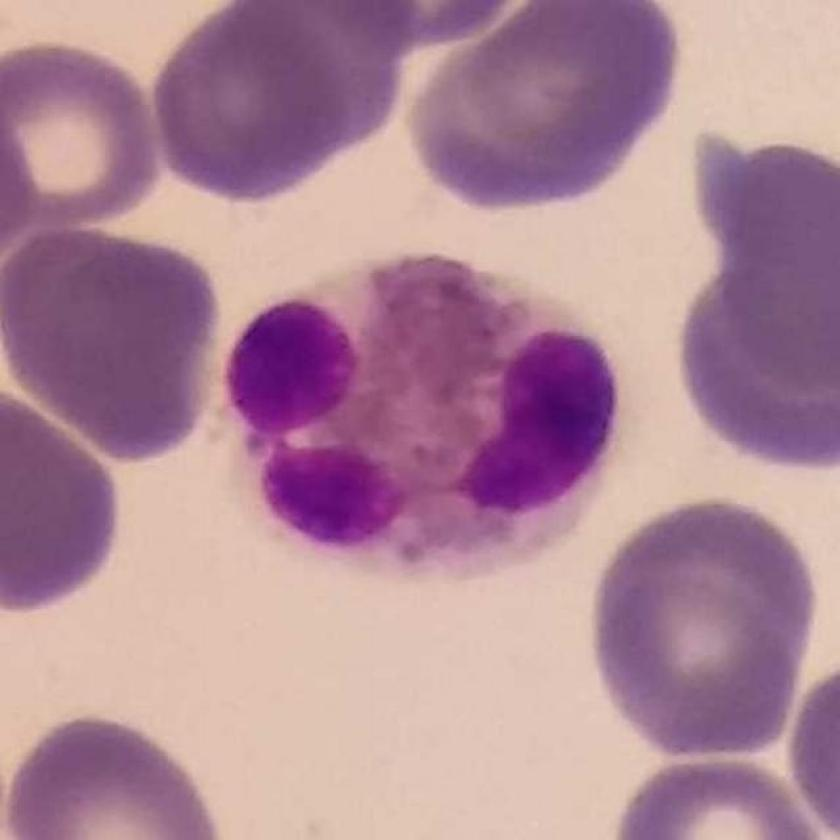eosinophil: (224, 253, 623, 588)
